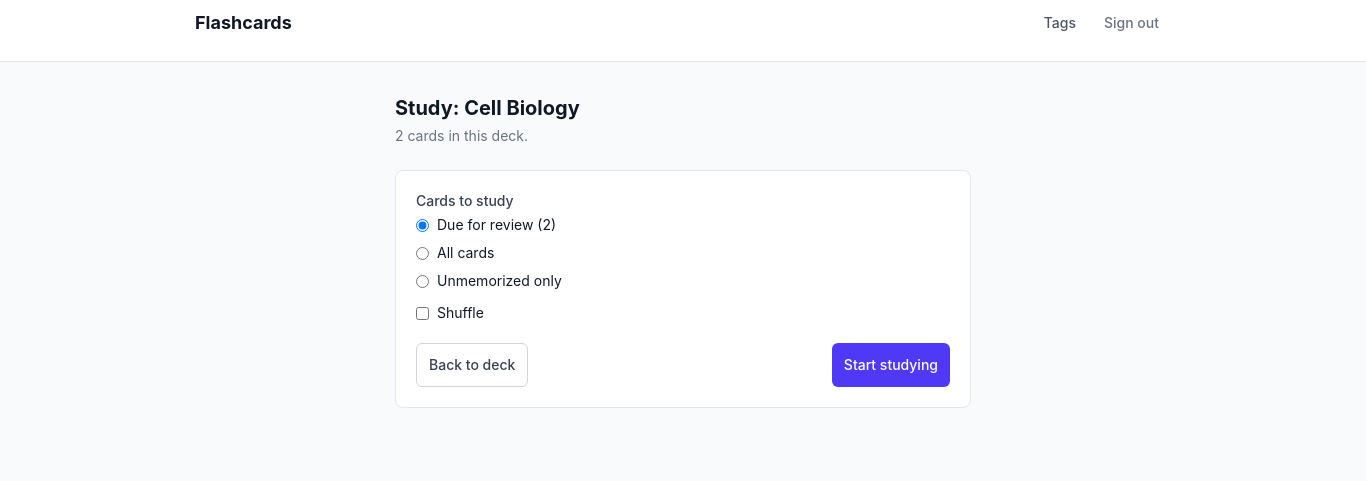
Scenario: four recall choices show server intervals and post only the review contract
Step 1. Click the button "Start studying" → (891, 365), box top-left (832, 343), bottom-right (950, 387)
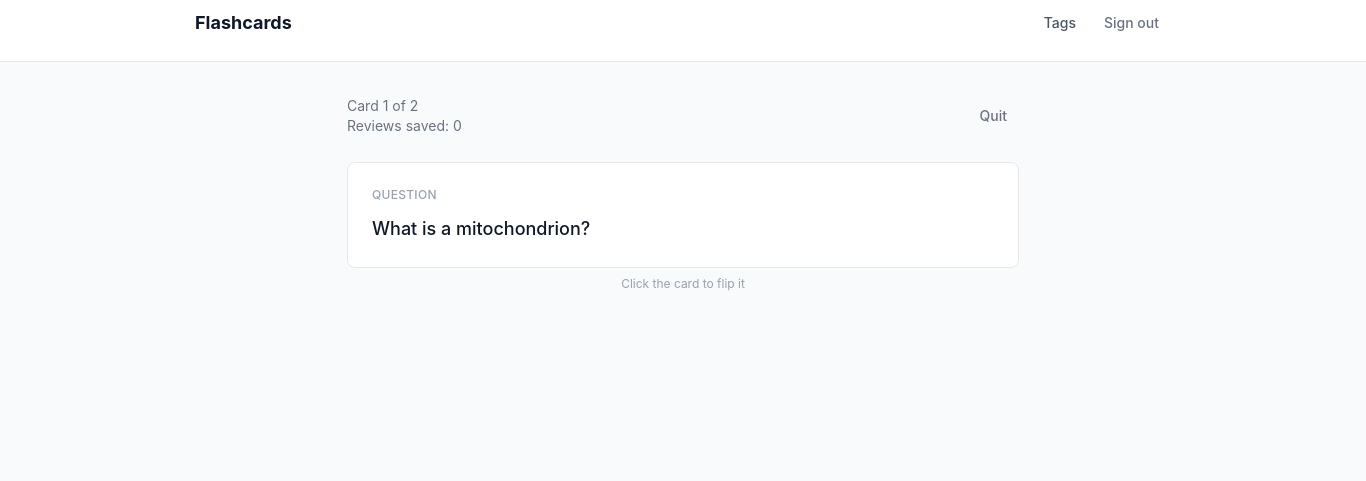
Expected: the button "Good Recalled" is not shown
Expected: the text "Card 1 of 2" is shown, top-left (347, 97), bottom-right (418, 114)
Expected: the text "The powerhouse of the cell." is shown, top-left (788, 265), bottom-right (973, 282)
Step 2. Click the button with aria-label "Flip card" → (683, 215), box top-left (347, 162), bottom-right (1019, 268)
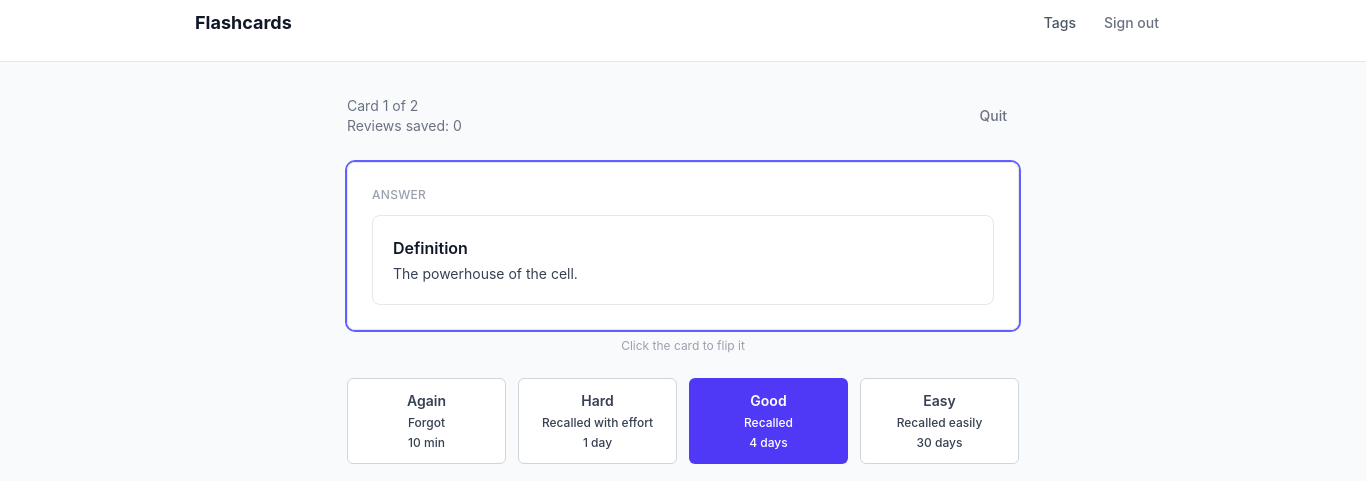
Expected: the button "Again Forgot 10 min" is enabled, top-left (347, 378), bottom-right (506, 464)
Expected: the button "Hard Recalled with effort 1 day" is enabled, top-left (518, 378), bottom-right (677, 464)
Expected: the button "Easy Recalled easily 30 days" is enabled, top-left (860, 378), bottom-right (1019, 464)
Step 3. Click the button "Good Recalled 4 days" → (768, 421), box top-left (689, 378), bottom-right (848, 464)
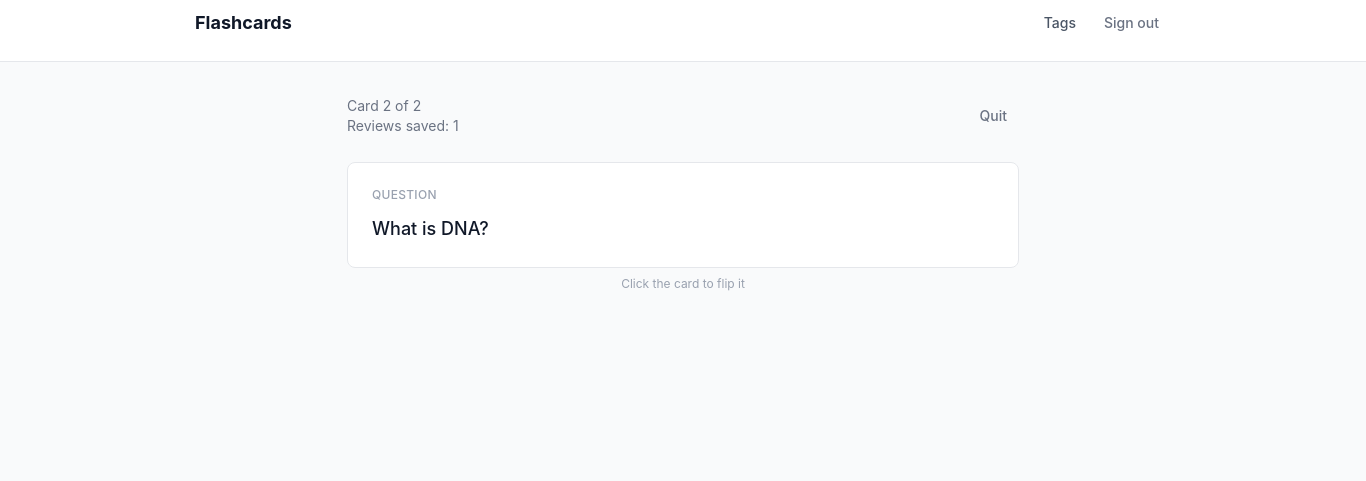
Expected: the text "Card 2 of 2" is shown, top-left (347, 97), bottom-right (421, 114)
Step 4. Click the button with aria-label "Flip card" → (683, 215), box top-left (347, 162), bottom-right (1019, 268)
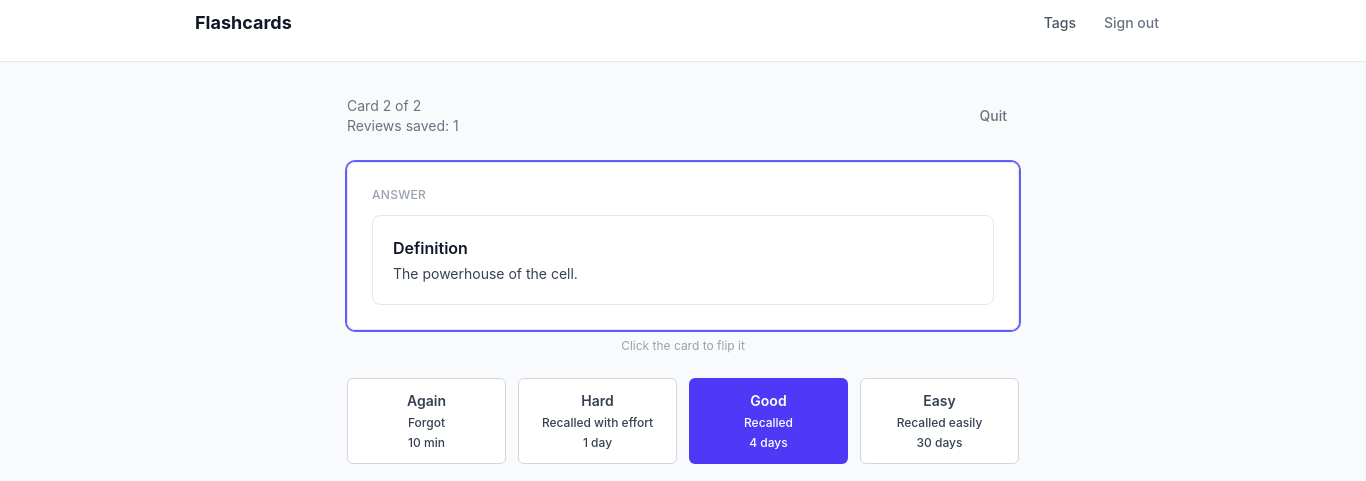
Step 5. Click the button "Hard Recalled with effort 1 day" → (598, 421), box top-left (518, 378), bottom-right (677, 464)
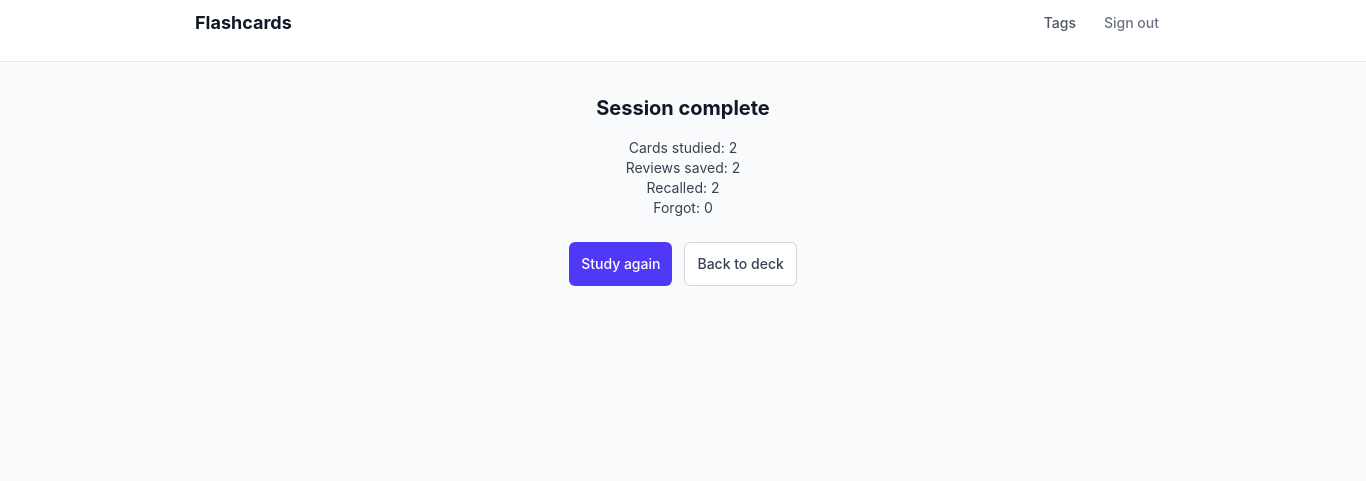
Expected: the heading "Session complete" is shown, top-left (596, 96), bottom-right (770, 120)
Expected: the text "Reviews saved: 2" is shown, top-left (626, 159), bottom-right (740, 176)
Expected: the text "Recalled: 2" is shown, top-left (646, 179), bottom-right (720, 196)
